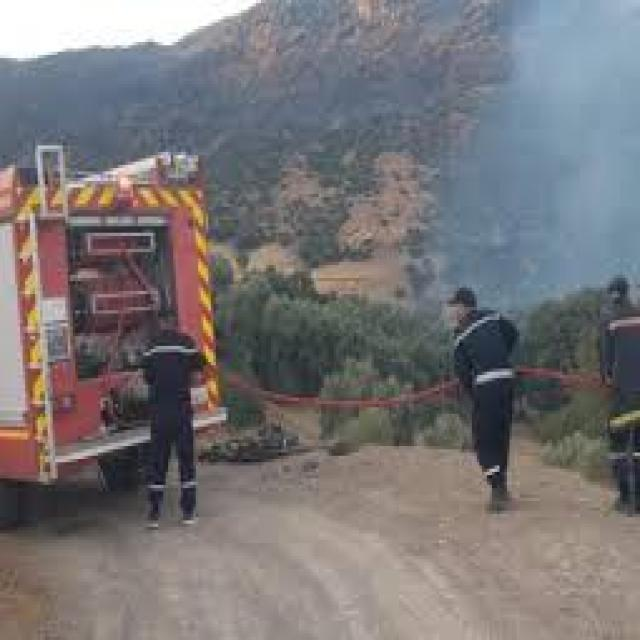emergency: (0, 132, 220, 498)
